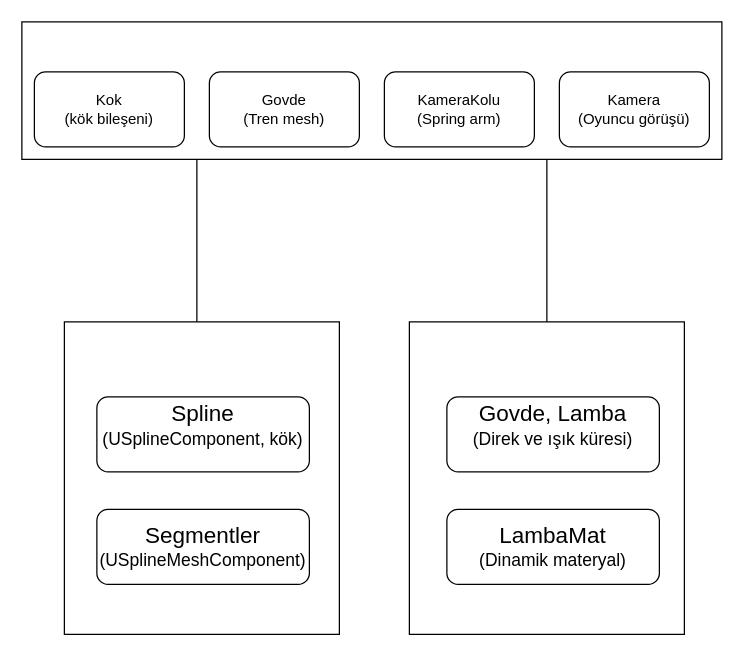
The diagram is 744 pixels wide and 656 high, and some of its shapes have lost their labels. Here are the shapes that lost their labels. From the top down, the box of each, then its label:
(21, 21, 722, 159): ATrainActor
(63, 321, 339, 634): ASplineTracker
(408, 321, 684, 634): ASignalActor
